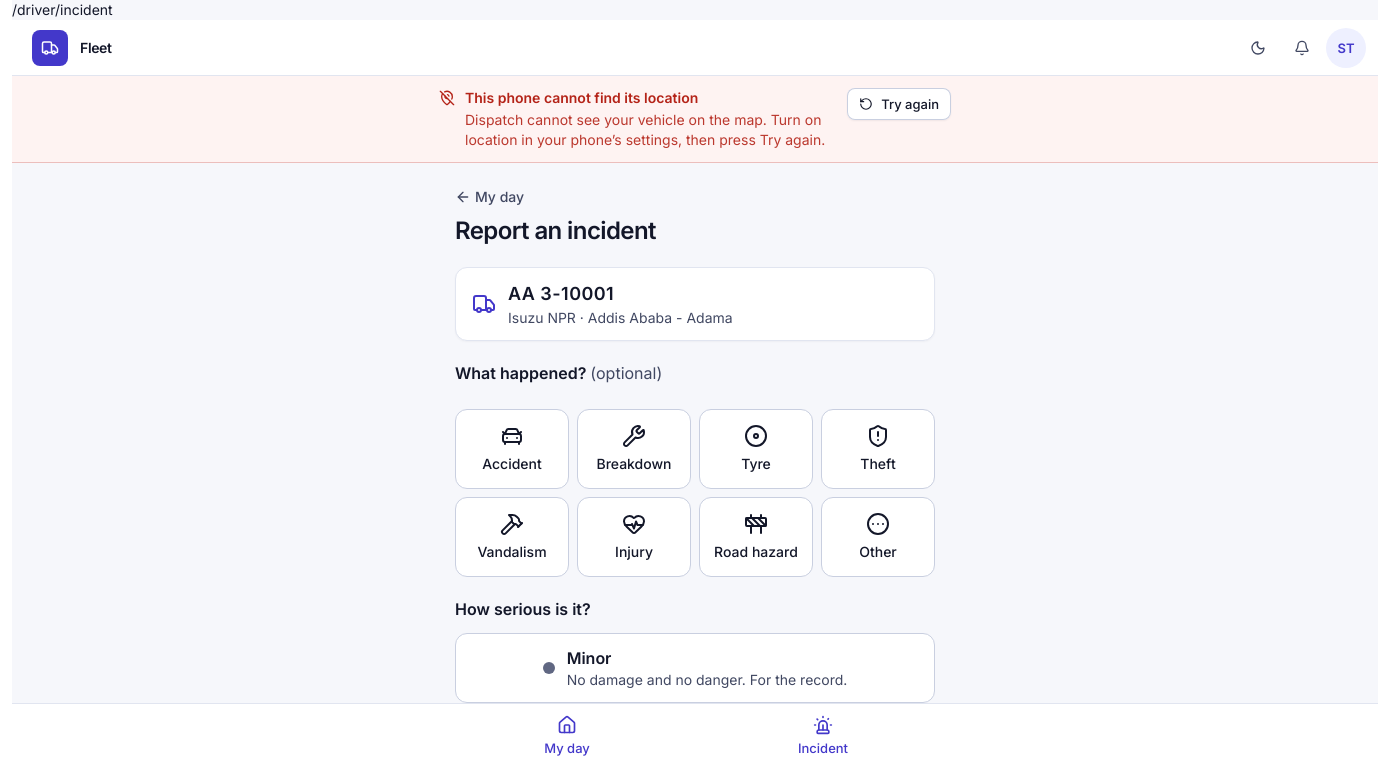
it: Driver incident report (FMS-38, S-13) › a critical accident on the trip, with the location: sent with the vehicle, the trip, when it was reported and an Idempotency-Key
Expected: the heading "Report an incident" is shown, [455,216,656,245]
Expected: the text "AA 3-10001" is shown, [508,283,614,304]
Click the radio button labelled "Accident" at x=512, y=449, box [455,409,569,489]
(page scrolled)
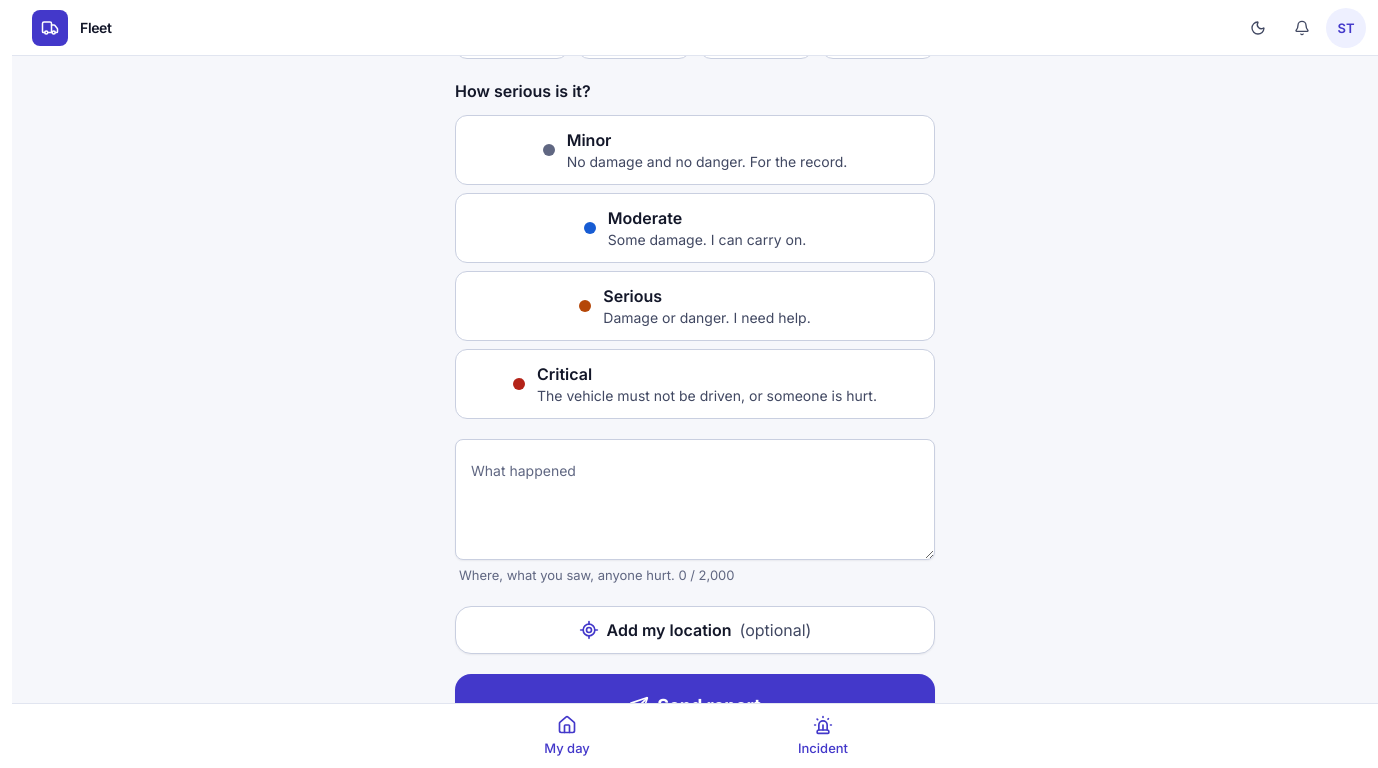
Click the radio button labelled "Critical The vehicle must not be driven, or someone is hurt." at x=695, y=384, box [455,349,935,419]
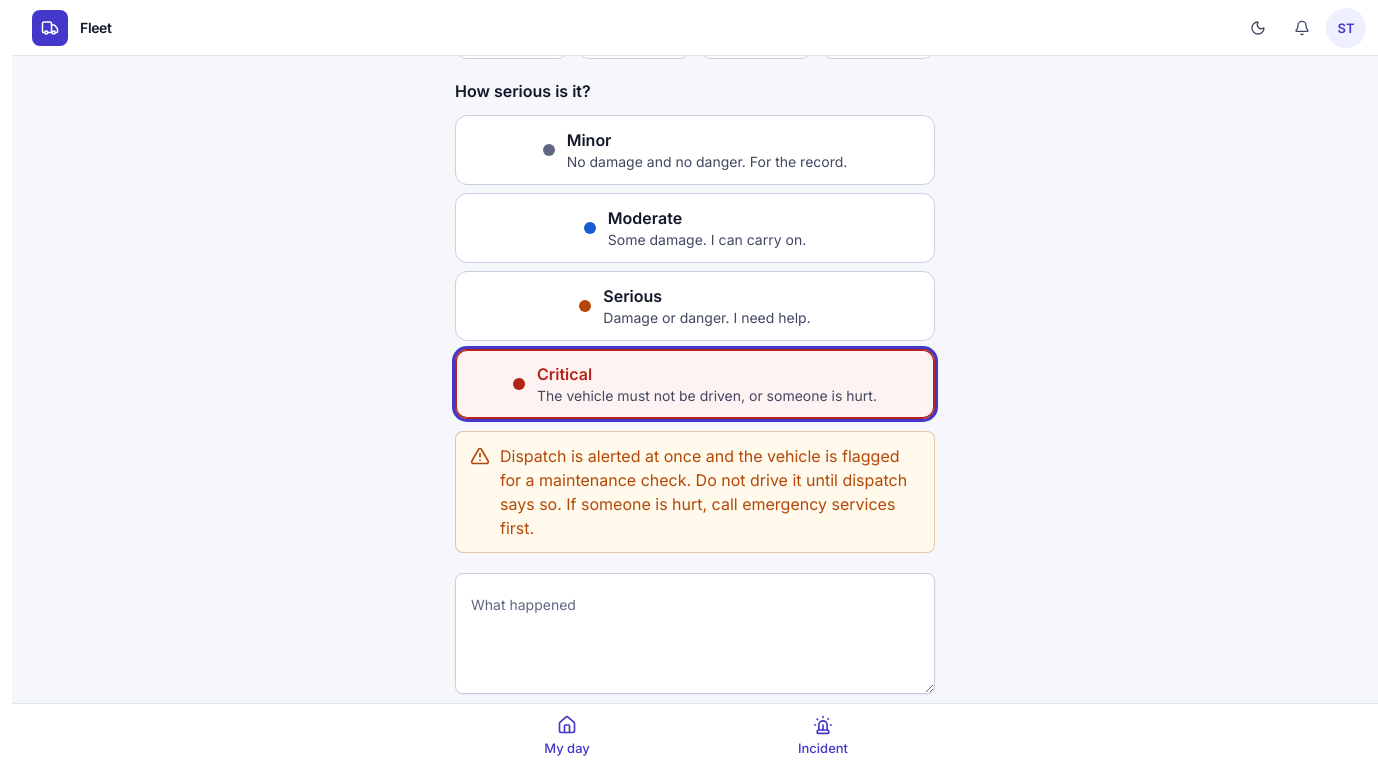
Expected: the text "the vehicle is flagged for a maintenance check. Do not drive it until dispatch says so." is shown, [500,446,907,514]
Type "  Hit a minibus at Megenagna, nobody hurt.  " into the text box labelled "What happened" at x=695, y=634, box [455,573,935,694]
(page scrolled)
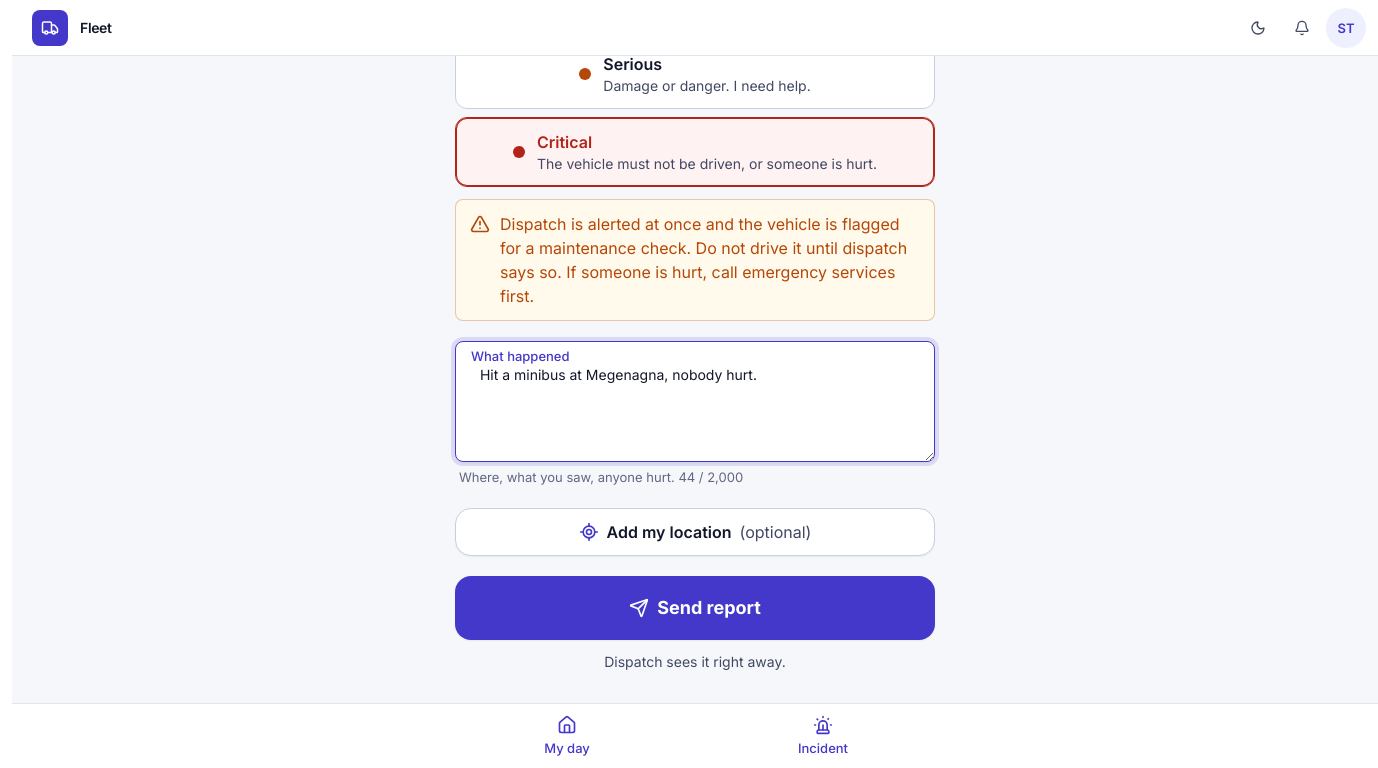
Click the button "Add my location (optional)" at x=695, y=532, box [455,508,935,556]
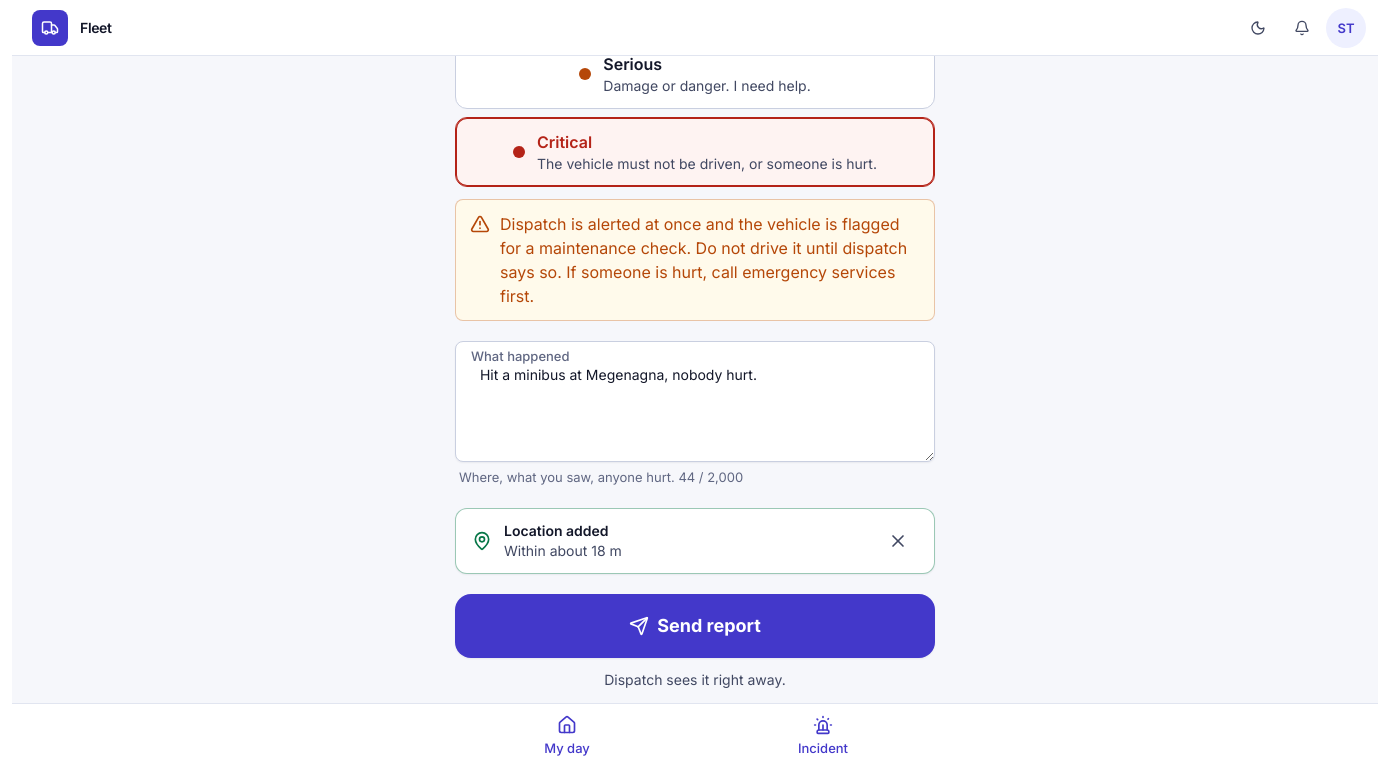
Expected: the text "Within about 18 m" is shown, [504,542,622,559]
Click the button "Send report" at x=695, y=626, box [455,594,935,658]
(page scrolled)
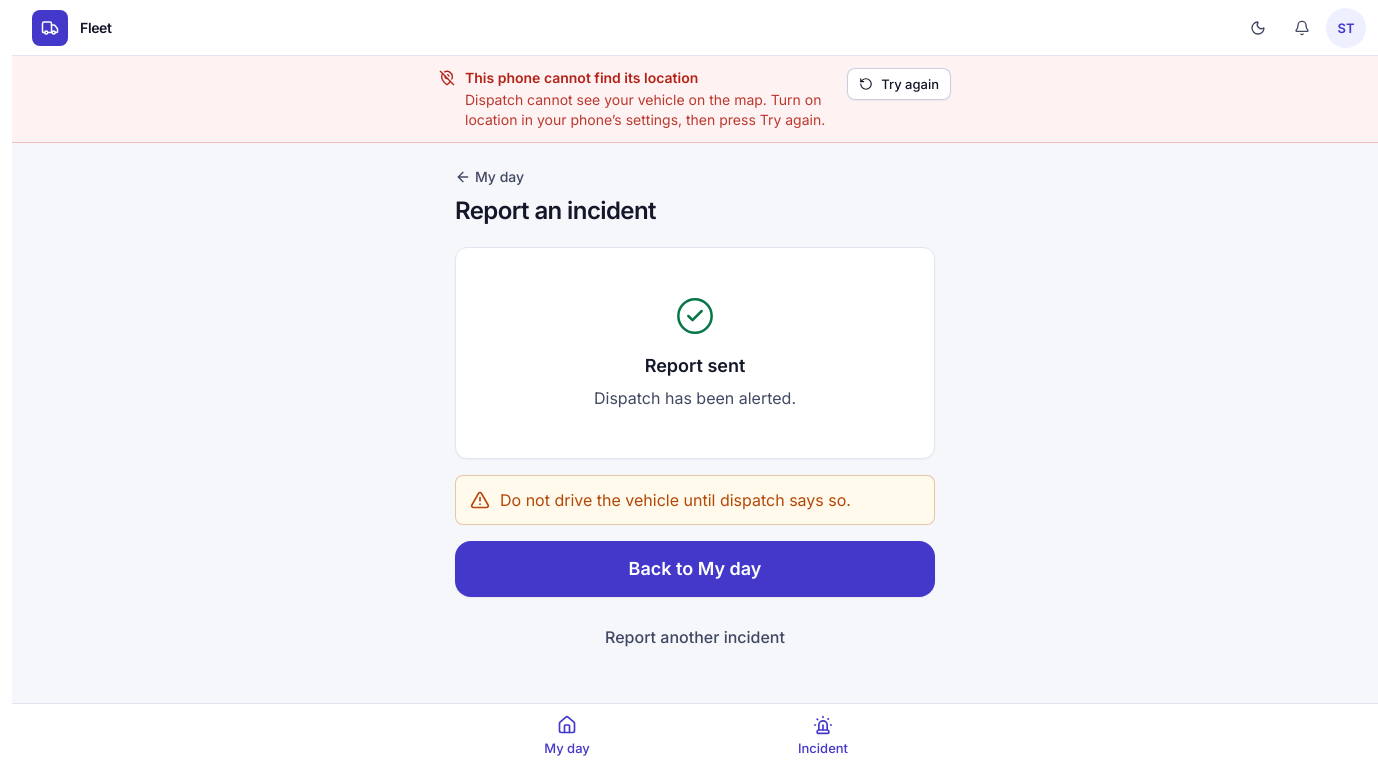
Expected: the heading "Report sent" is shown, [645,352,745,380]
Expected: the text "Dispatch has been alerted." is shown, [594,386,796,410]
Expected: the text "Do not drive the vehicle until dispatch says so." is shown, [500,488,851,512]
